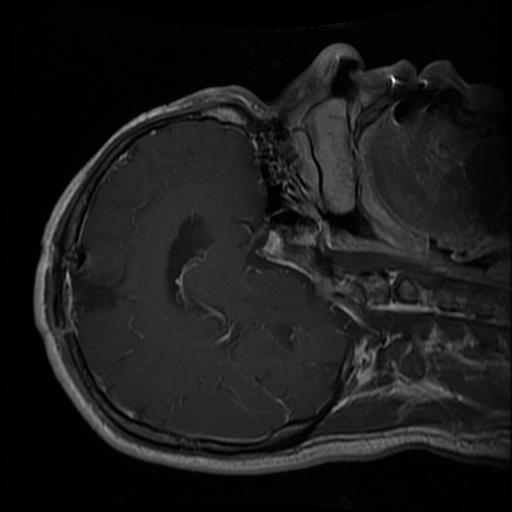glioma: (81, 272, 136, 324)
